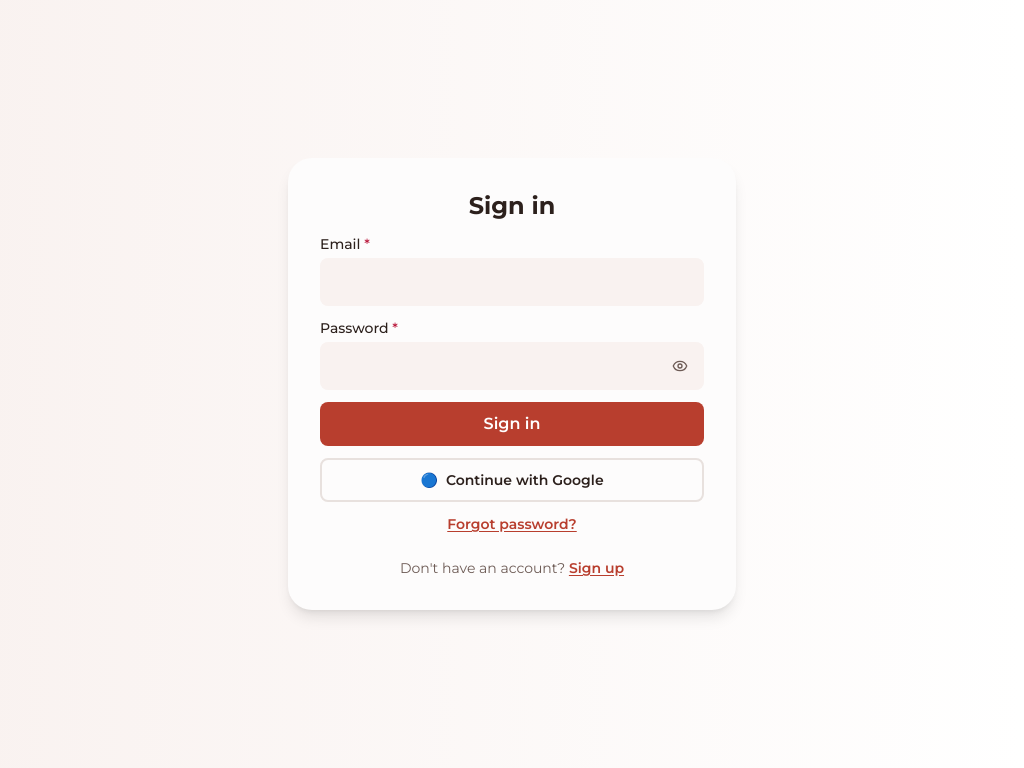
Test: the other ways in › checks a registration before sending it
The image size is (1024, 768).
Click the button "Sign up" at (596, 568), box [569,558,624,578]
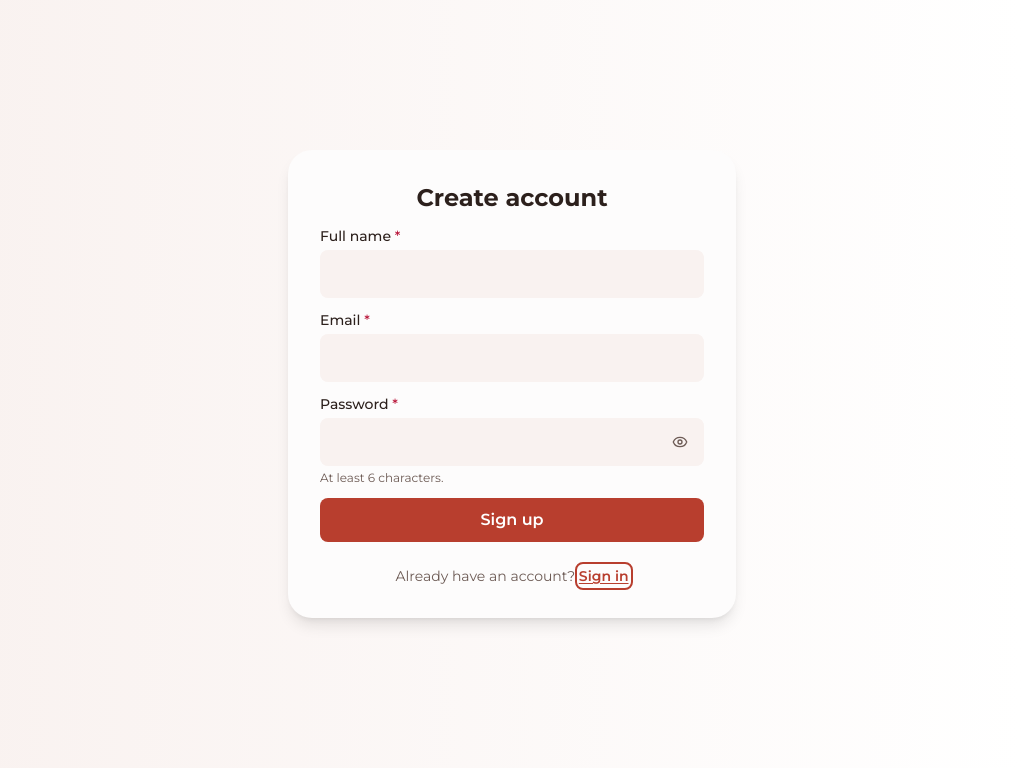
Click the button "Sign up" at (512, 520), box [320,498,704,542]
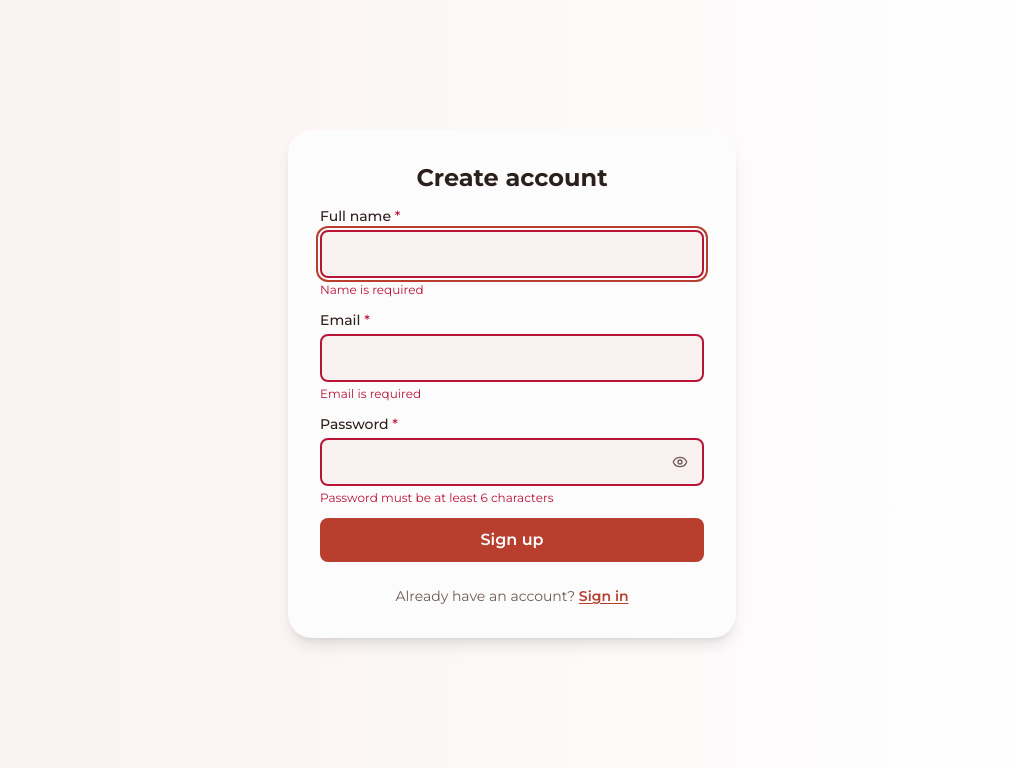
Expected: the text "Name is required" is shown, [320,282,424,297]
